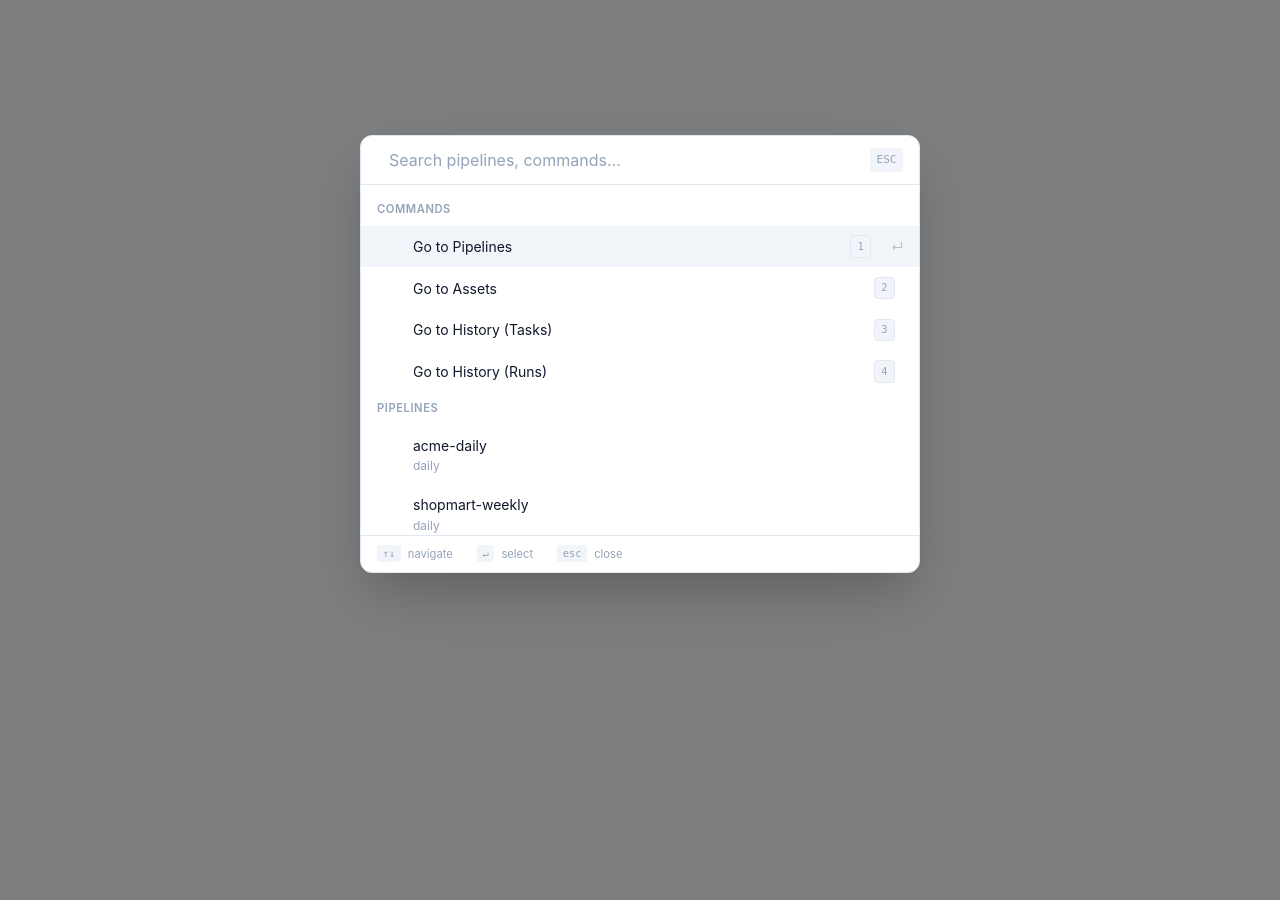
Test: CommandPalette › search filtering › shows theme toggle command
Type "dark" into the dropdown.
click(624, 160); type("dark")  # box [389, 148, 858, 172]
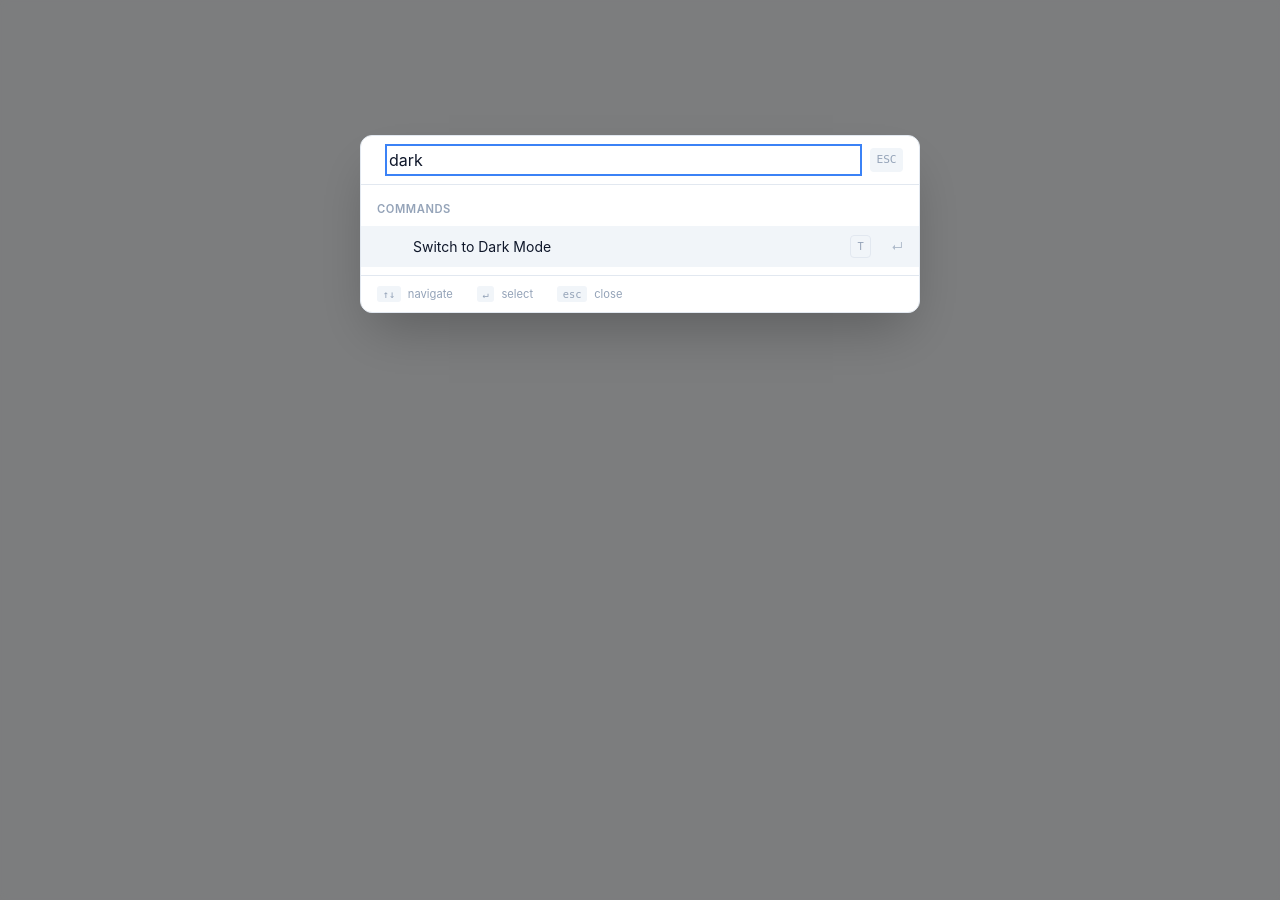
Expected: the text "Switch to Dark Mode" is shown, [413, 238, 551, 255]
